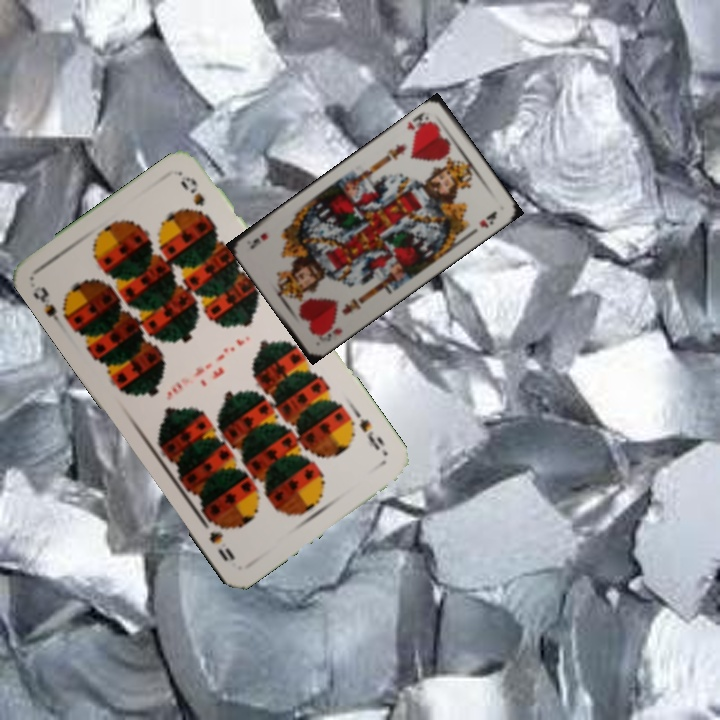HK: (403, 107, 434, 136), (314, 321, 345, 344)
S9: (29, 282, 74, 332), (355, 414, 387, 453)
